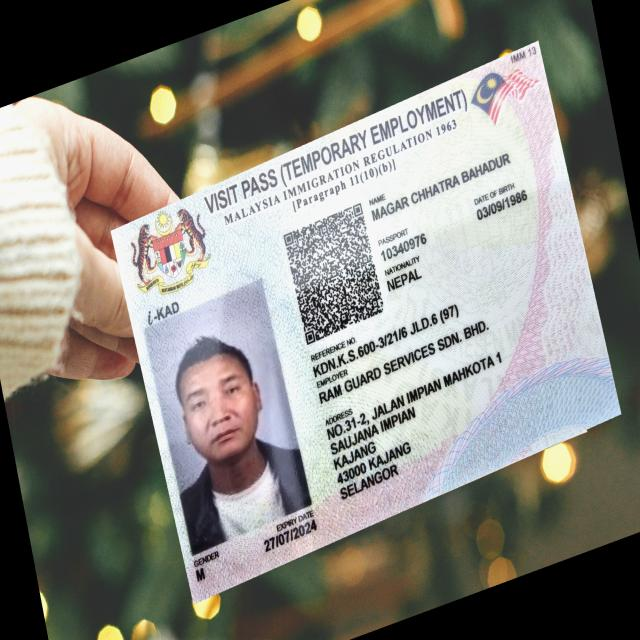ikad-temp: (109, 39, 622, 604)
